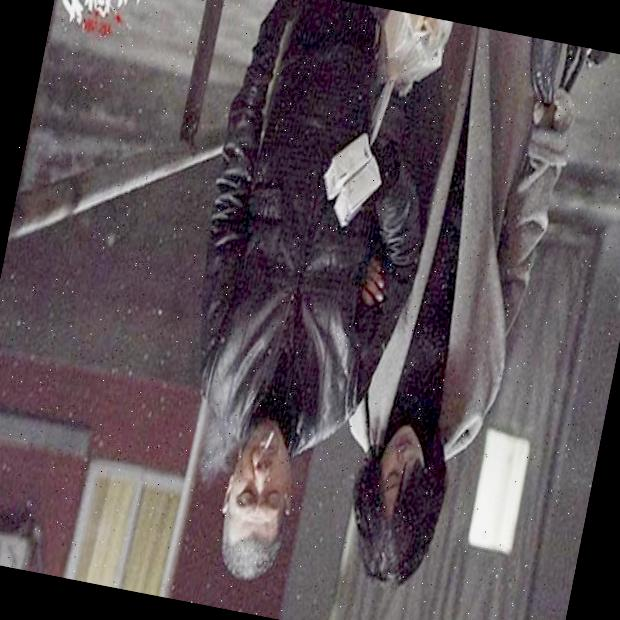smoke: (194, 401, 252, 485)
